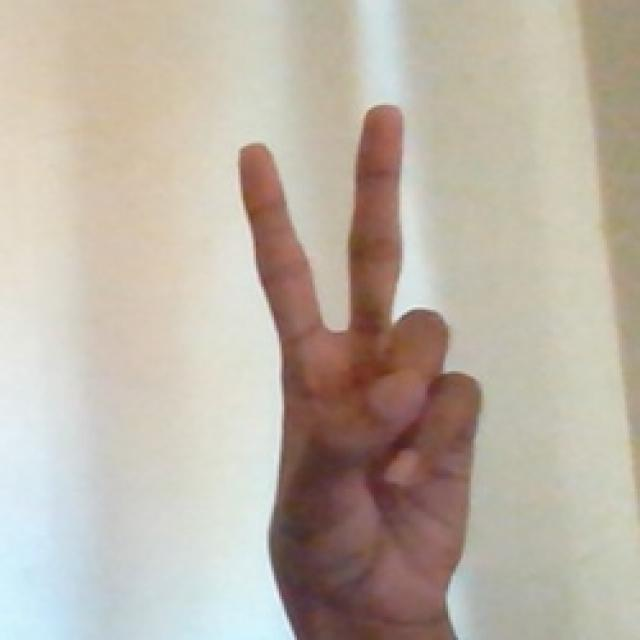Numeric-2: (228, 95, 487, 623)
